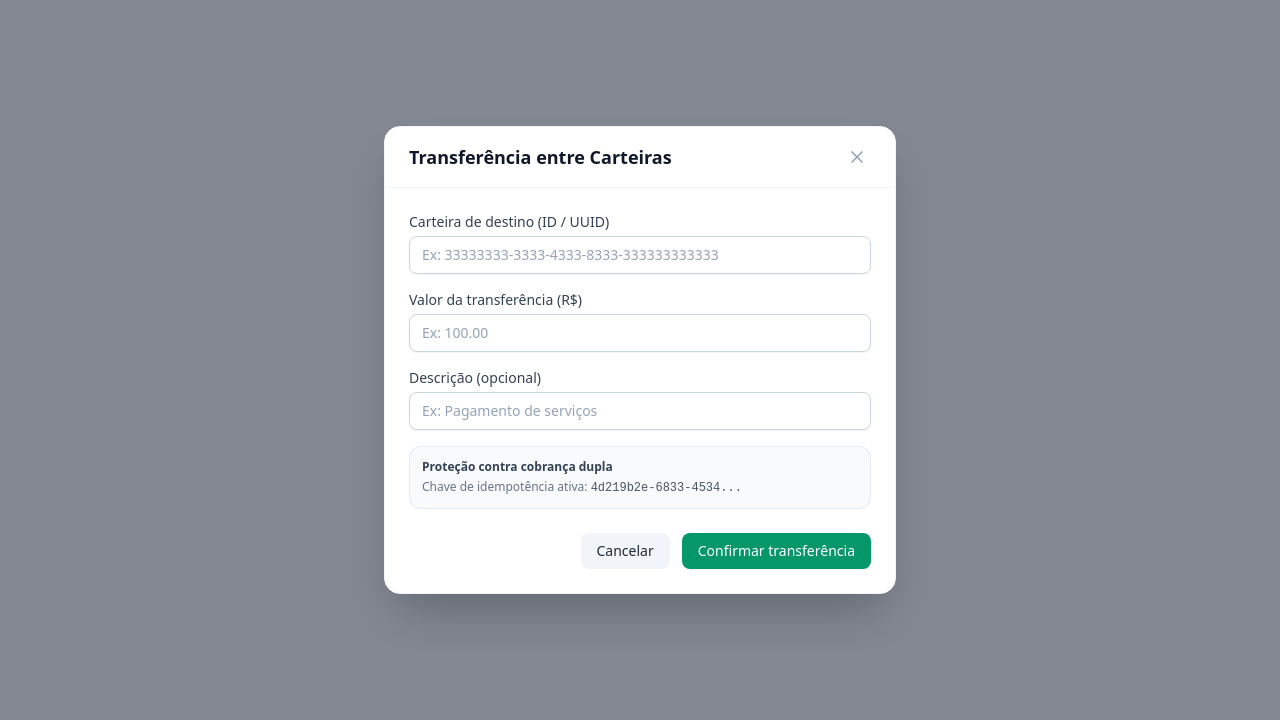
TransferModal › displays error alert on destination equal to current wallet
Type "my-wallet" into the field labelled "Carteira de destino (ID / UUID)" at (640, 255), box [409,236,871,274]
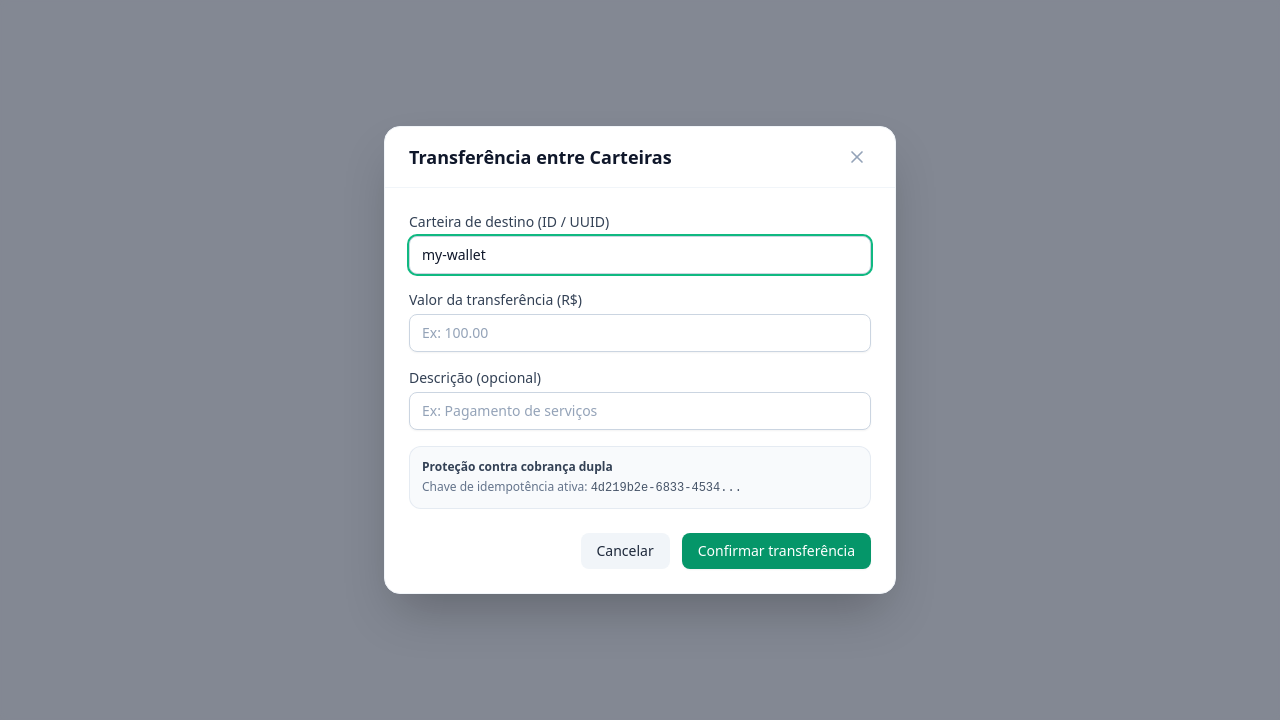
Type "100.00" into the field labelled "Valor da transferência (R$)" at (640, 333), box [409,314,871,352]
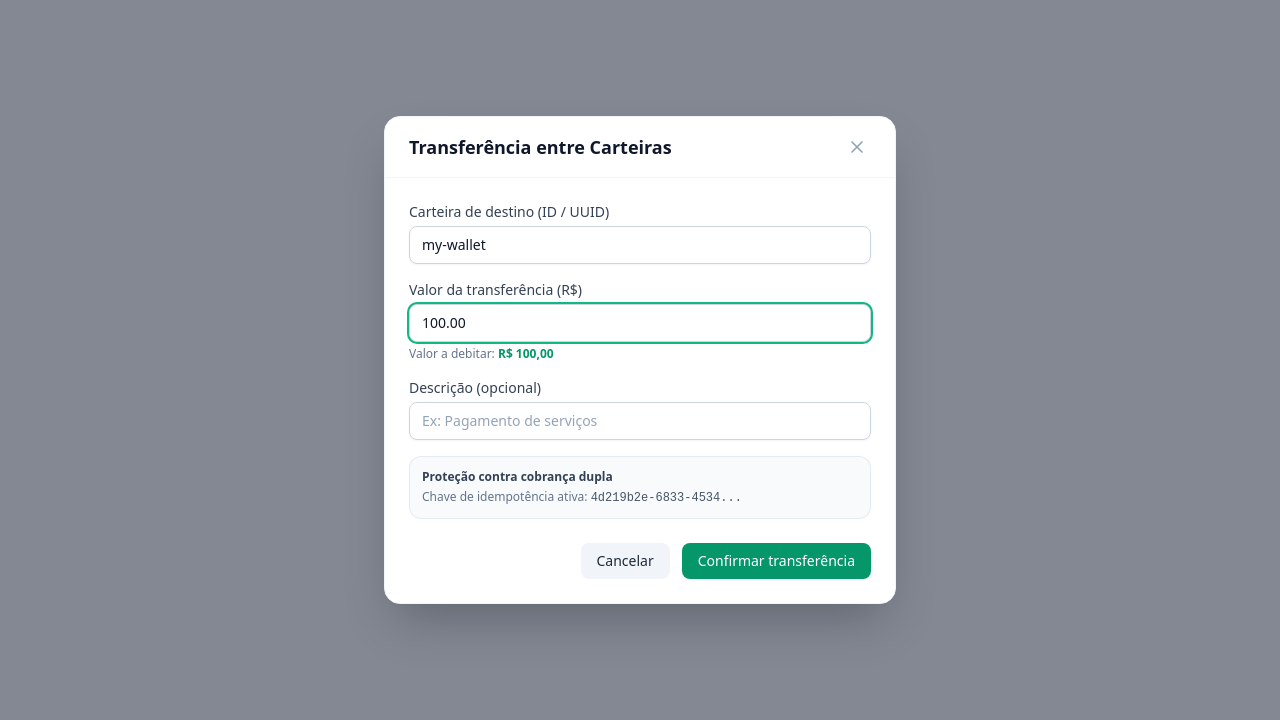
Click the button "Confirmar transferência" at (776, 561), box [682,543,871,579]
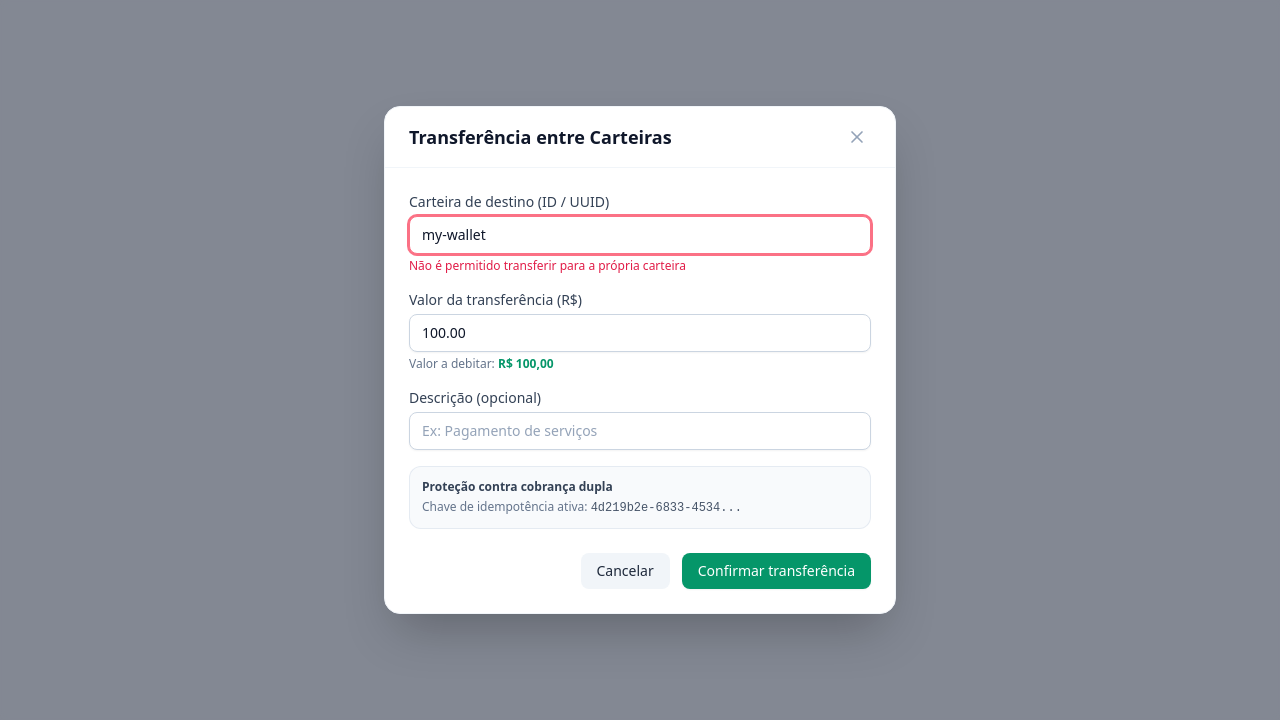
Expected: the text "Não é permitido transferir para a própria carteira" is shown, [409,257,686,274]
